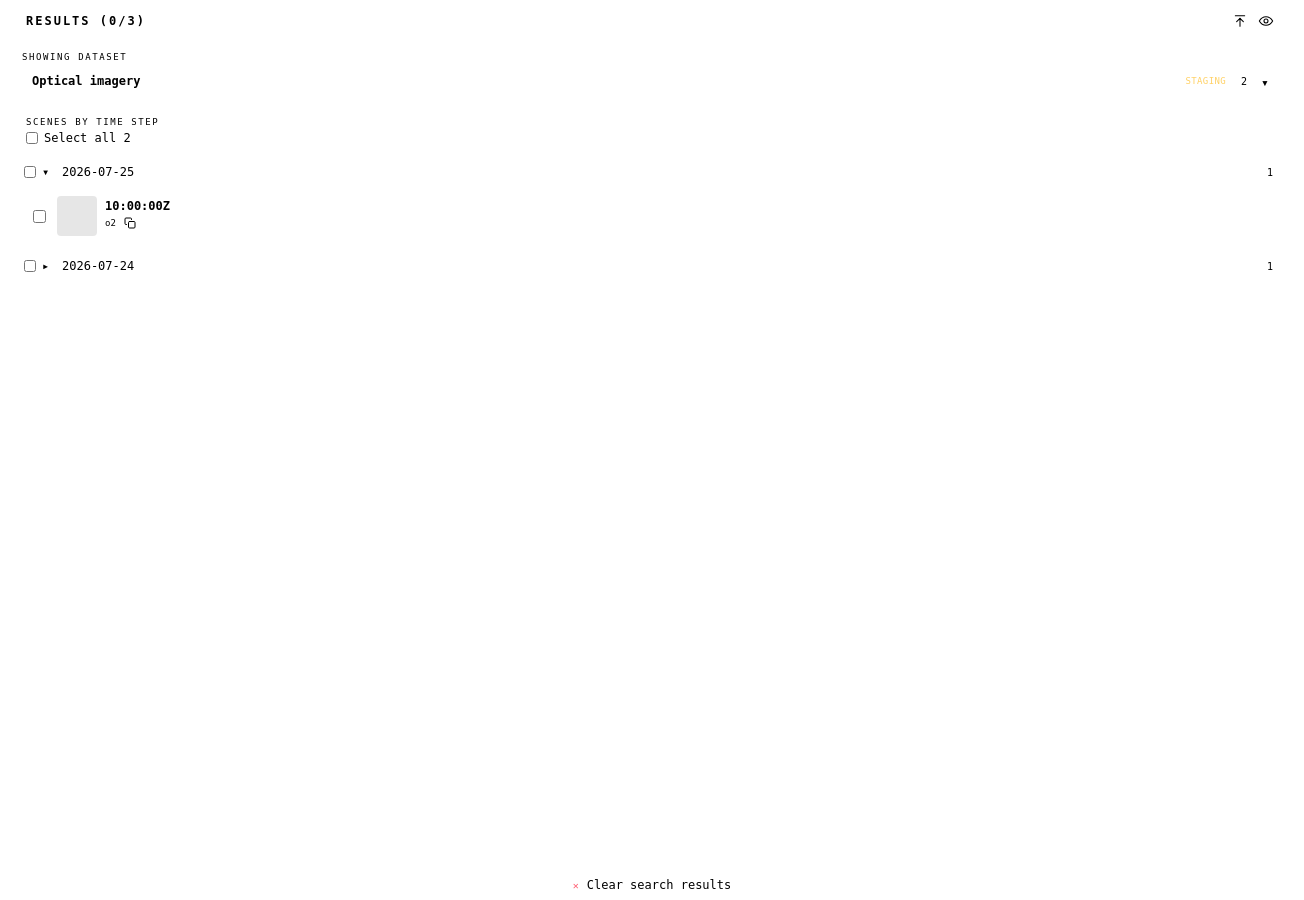
Test: ResultsPanel dataset dropdown › choosing a dataset shows its scenes, makes it the active dataset and closes the list
Click the button with class "dataset-select-box".
click(86, 81)  # box [22,67,1282,95]
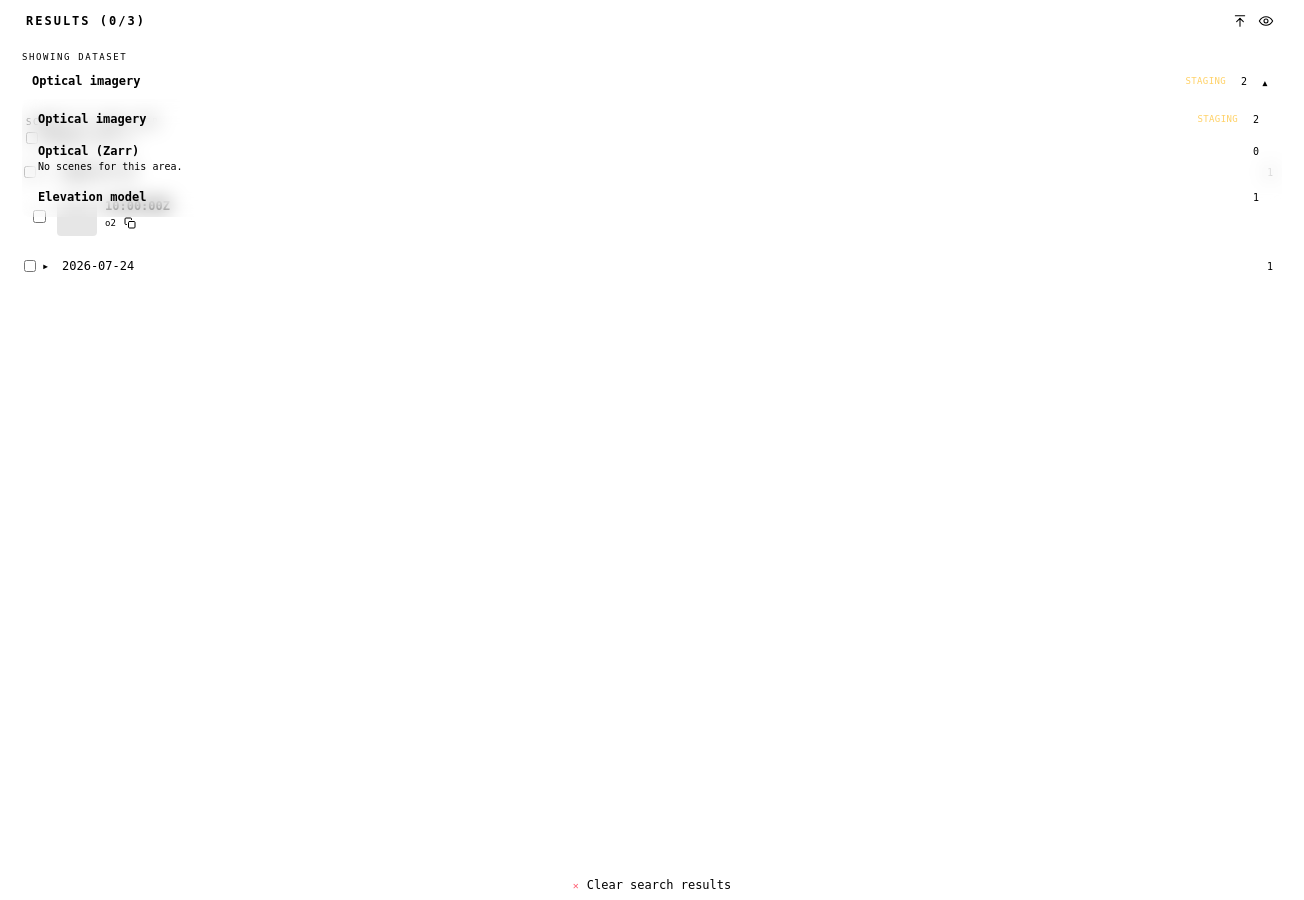
Click the option with class "dataset-select-option" showing "Elevation model 1".
click(92, 197)  # box [28,183,1276,211]
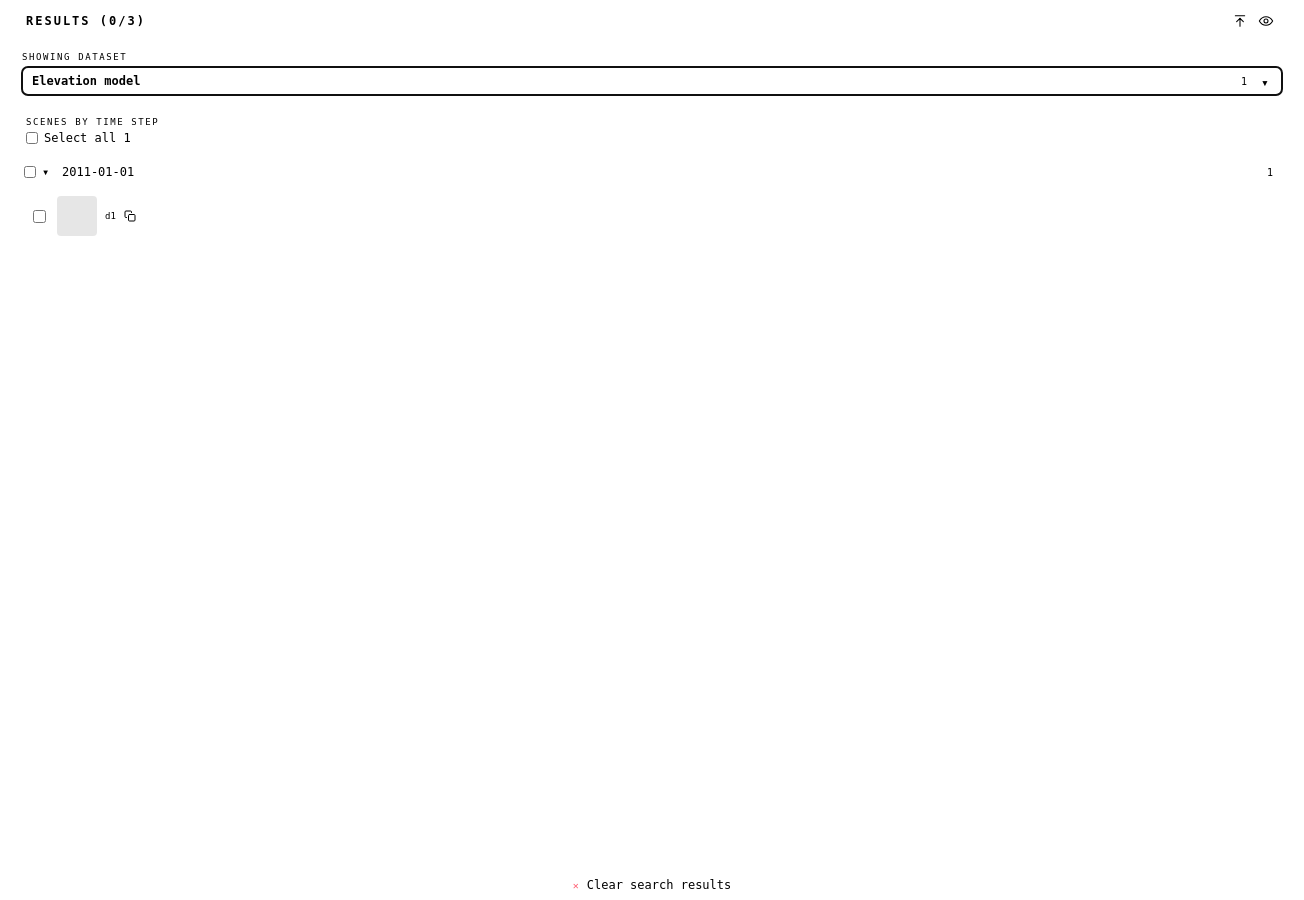
expect the button with class "dataset-select-box" shows "Elevation model": met, box [22,67,1282,95]
expect the number of elements with class "result-group" is 1: met, box [18,155,1286,249]
